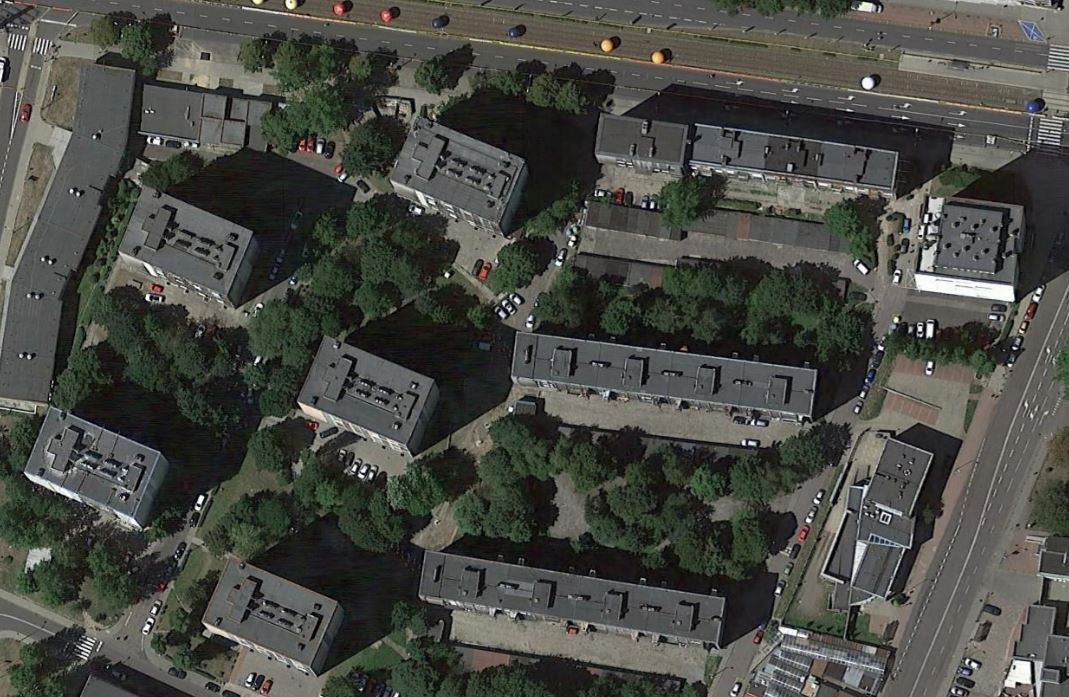block of flats: (1, 58, 138, 410), (414, 546, 728, 656), (507, 326, 820, 426), (592, 109, 905, 201), (820, 435, 939, 615), (384, 112, 535, 244), (22, 404, 171, 534), (200, 551, 349, 680), (120, 182, 262, 316), (292, 332, 440, 458), (906, 187, 1032, 308)
garage: (578, 195, 864, 265), (573, 250, 856, 314)
